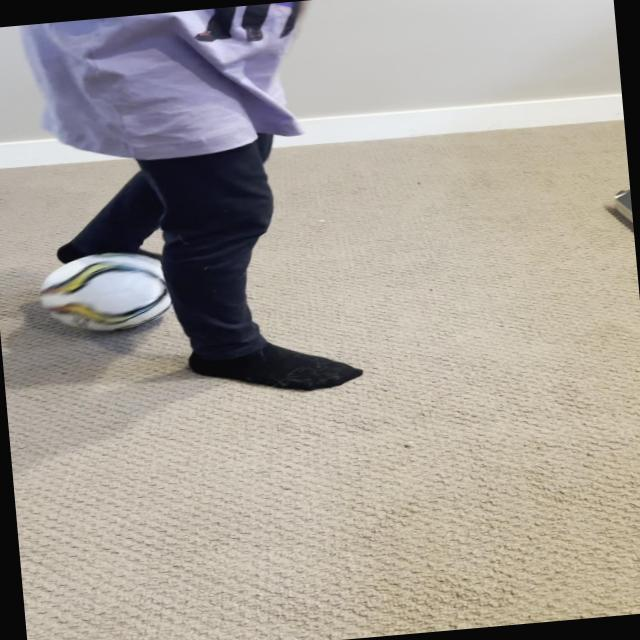Soccer Ball: (36, 244, 183, 337)
